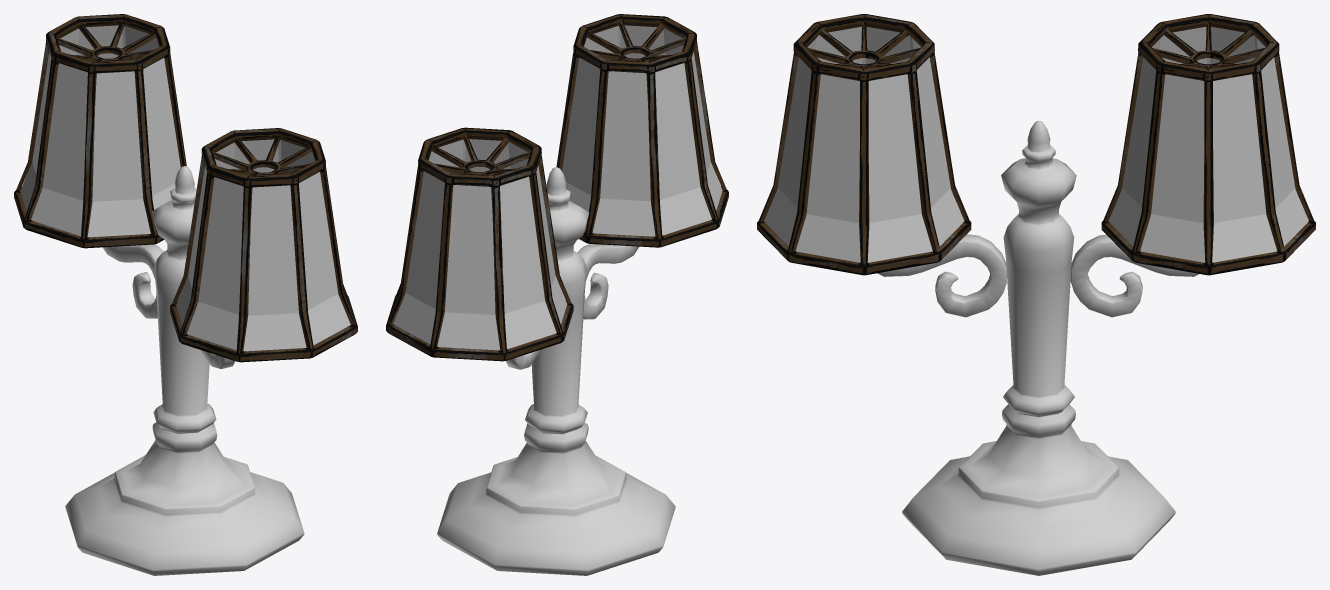
File: Lamp_Table1.fbx
3 renders of one model, left to right at view 1: azimuth 30°, elevation 25°; view 2: azimuth 150°, elevation 25°; view 3: azimuth 270°, elevation 25°, orthographic. The views are drawn at different scales.
Visible parts, largest first — view 1: Lamp_Table_Structure, Lamp_Table_Silk001, Lamp_Table_Silk, Lamp_Table_Structure_Top001, Lamp_Table_Structure_Top, Lamp_Arm; view 2: Lamp_Table_Structure, Lamp_Table_Silk, Lamp_Table_Silk001, Lamp_Table_Structure_Top, Lamp_Table_Structure_Top001, Lamp_Arm; view 3: Lamp_Table_Structure, Lamp_Table_Silk, Lamp_Table_Silk001, Lamp_Table_Structure_Top001, Lamp_Table_Structure_Top, Lamp_Arm.
Boxes of the visible parts, x1,y1,x2,y2 form: Lamp_Table_Structure: [65, 166, 304, 575]; Lamp_Table_Silk001: [176, 139, 350, 351]; Lamp_Table_Silk: [20, 25, 180, 237]; Lamp_Table_Structure_Top001: [170, 128, 357, 362]; Lamp_Table_Structure_Top: [14, 14, 186, 248]; Lamp_Arm: [103, 244, 234, 368]; Lamp_Table_Structure: [437, 167, 675, 575]; Lamp_Table_Silk: [393, 139, 567, 350]; Lamp_Table_Silk001: [562, 25, 722, 236]; Lamp_Table_Structure_Top: [386, 127, 573, 361]; Lamp_Table_Structure_Top001: [556, 14, 728, 247]; Lamp_Arm: [506, 244, 638, 369]; Lamp_Table_Structure: [902, 121, 1175, 575]; Lamp_Table_Silk: [1108, 26, 1308, 262]; Lamp_Table_Silk001: [764, 26, 964, 262]; Lamp_Table_Structure_Top001: [757, 14, 971, 275]; Lamp_Table_Structure_Top: [1101, 14, 1315, 275]; Lamp_Arm: [877, 234, 1198, 317].
Size of the model in its own units: 26.13 by 53.38 by 50.36.
